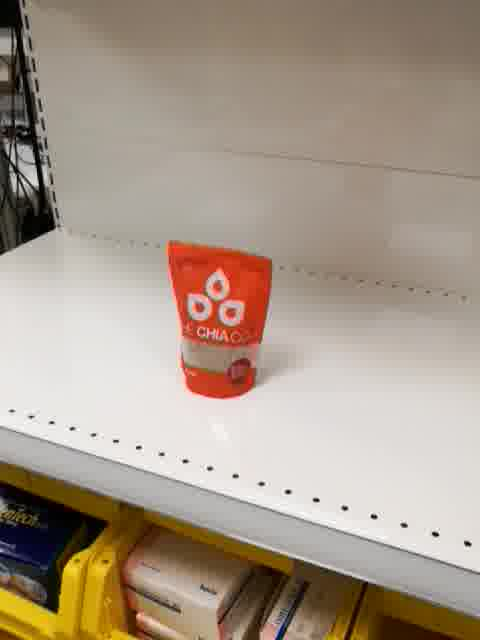whitechia: (163, 236, 275, 402)
